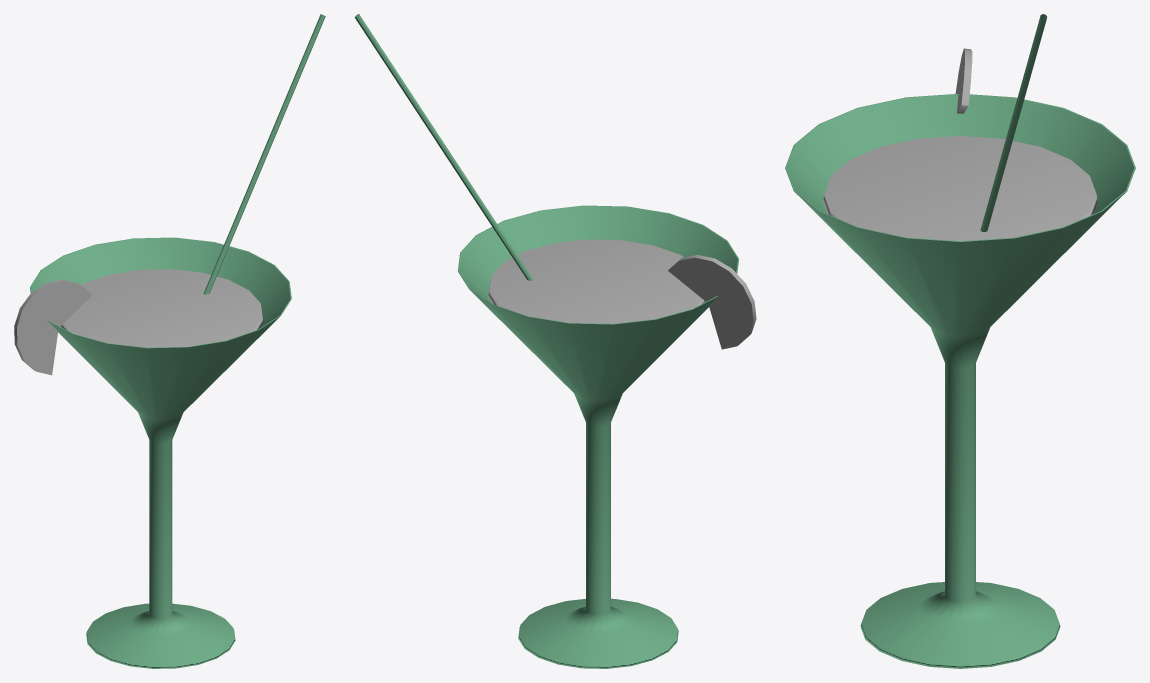
File: S_coctail_cup.fbx
The picture shows the model from 3 angles, left to right: view 1: azimuth 30°, elevation 25°; view 2: azimuth 150°, elevation 25°; view 3: azimuth 270°, elevation 25°; orthographic projection. The views are drawn at different scales.
Parts seen in each view (by area): view 1: S_coctal_cup_001, coctail, lime, cup_stick; view 2: S_coctal_cup_001, coctail, lime, cup_stick; view 3: S_coctal_cup_001, coctail, cup_stick, lime.
Part boxes in pixels (x1,y1,x2,y2): S_coctal_cup_001: (30,237,291,668); coctail: (60,269,263,347); lime: (14,279,92,375); cup_stick: (203,14,325,294); S_coctal_cup_001: (457,205,738,668); coctail: (488,239,705,323); lime: (668,255,756,349); cup_stick: (354,14,533,280); S_coctal_cup_001: (785,94,1135,668); coctail: (823,136,1097,241); cup_stick: (980,14,1046,231); lime: (955,48,972,113).
Bounding box in the file's own units: 0.0648 × 0.1006 × 0.0434.
